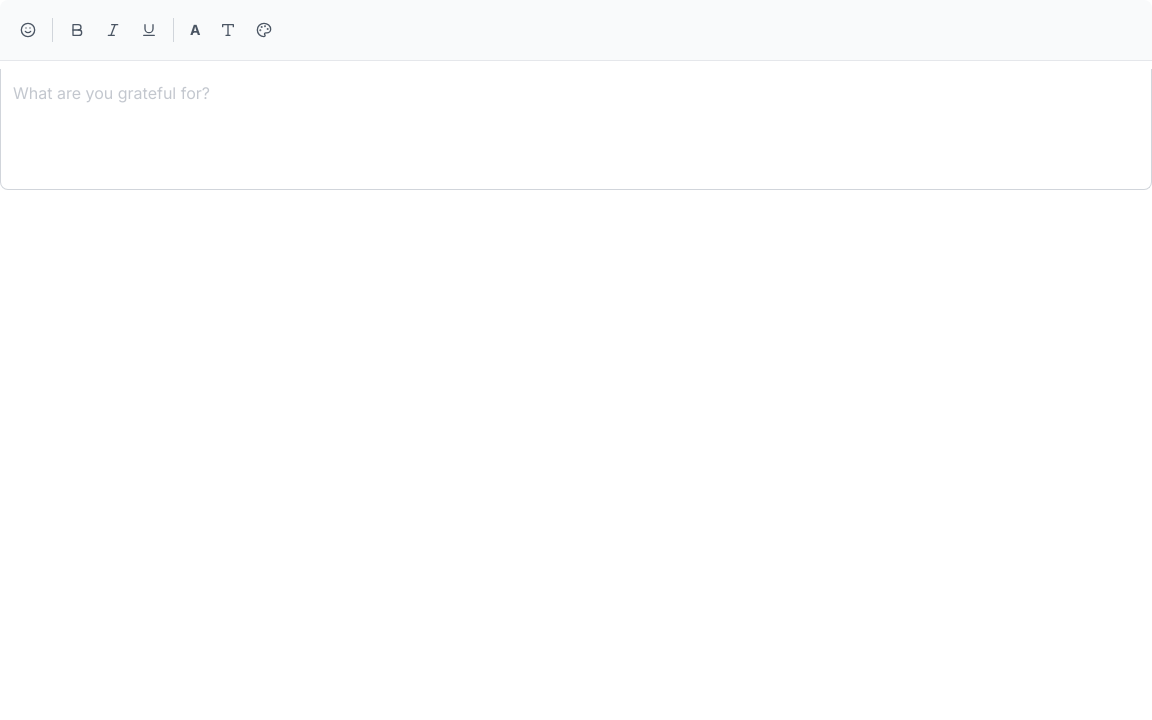
RichTextEditor Responsive Toolbar › closes dropdowns when clicking outside
Click the button titled "Text Size" at [195, 30], box left=182, top=12, right=208, bottom=48
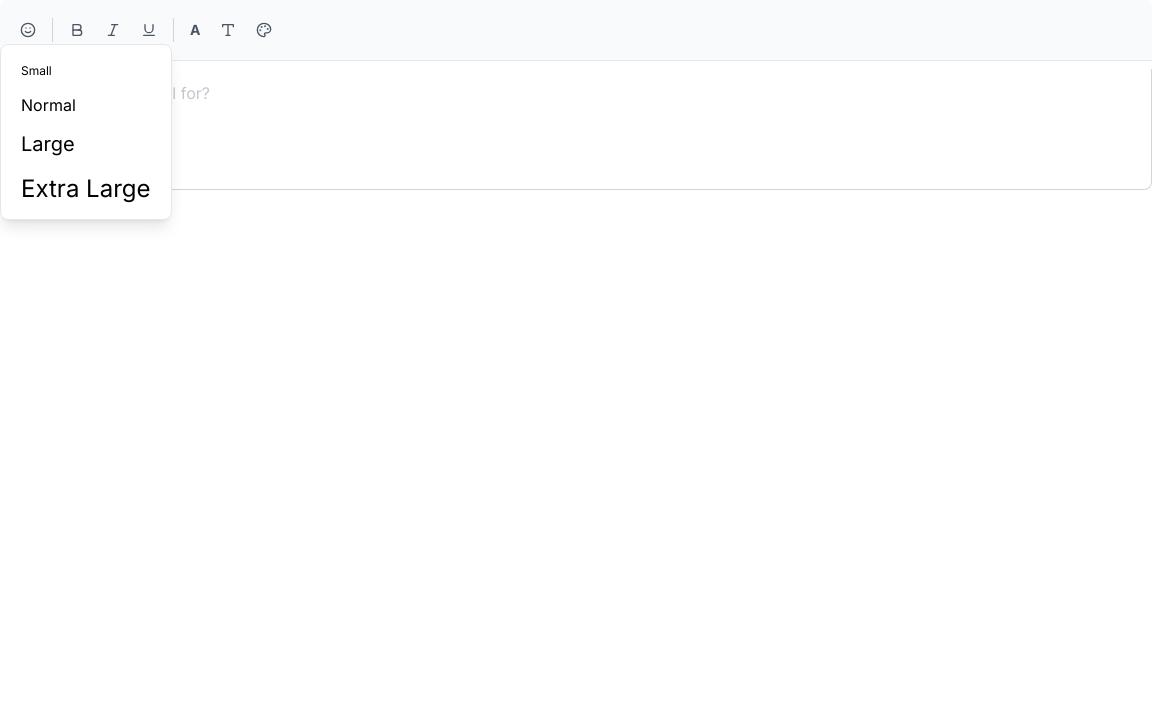
Check: the text "Small" is shown, box left=21, top=63, right=52, bottom=78
Click the element with class "inset-0" at [576, 360], box left=0, top=0, right=1151, bottom=719
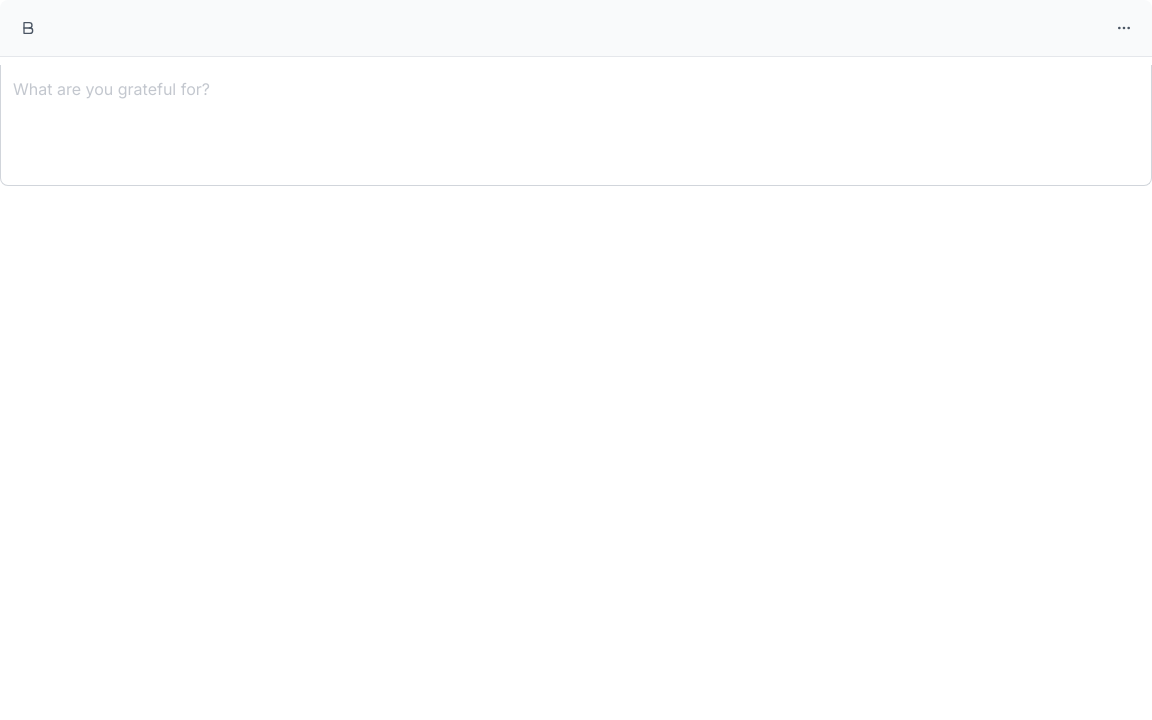
Check: the button "Small" is gone
